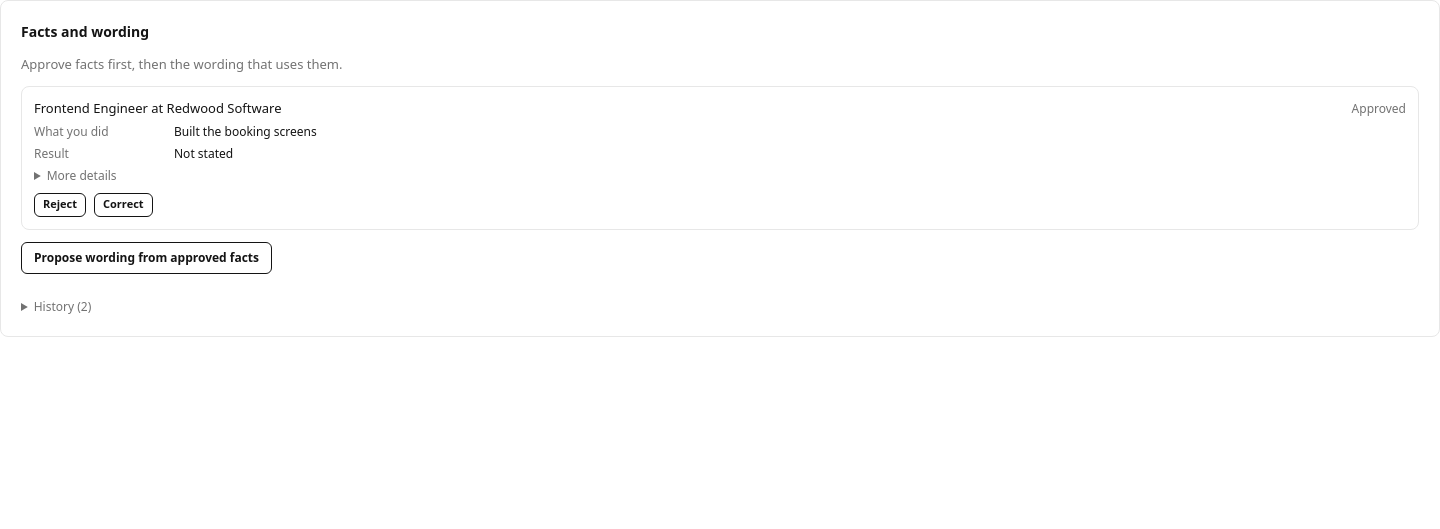
Test: EvidenceReview (#419, step 7) › restores a rejected wording as a draft and leaves replaced ones without a restore button
Click the heading "History (2)".
click(62, 306)  # box [34, 298, 91, 315]
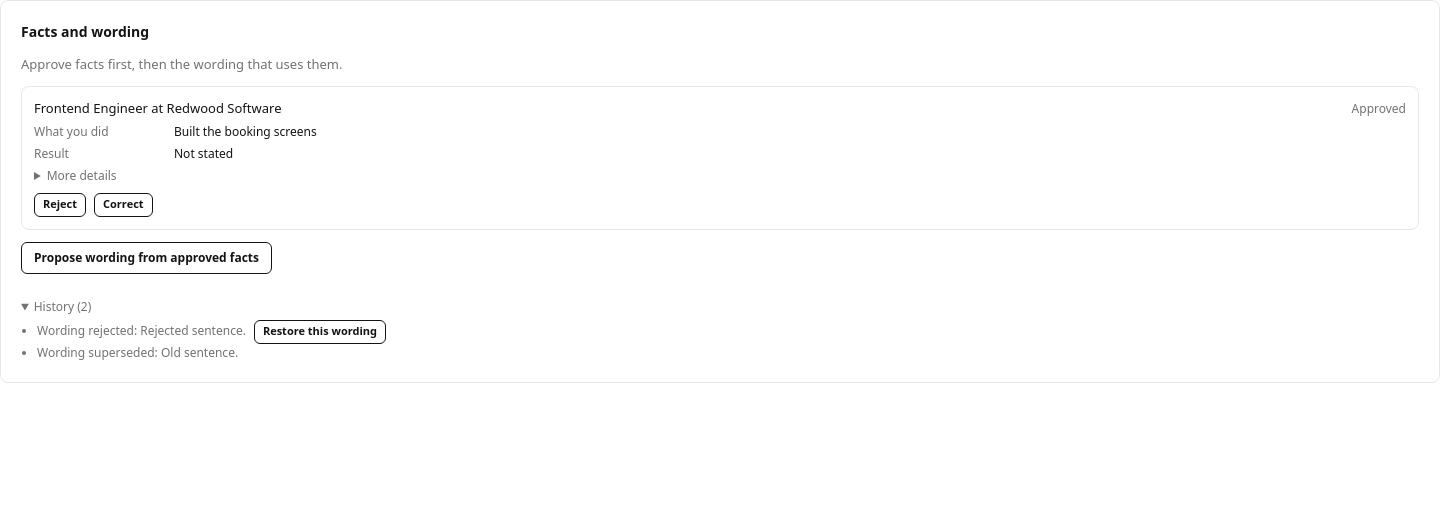
Now the number of buttons "Restore this wording" is 1
Click the button "Restore this wording".
click(320, 332)  # box [254, 320, 386, 344]
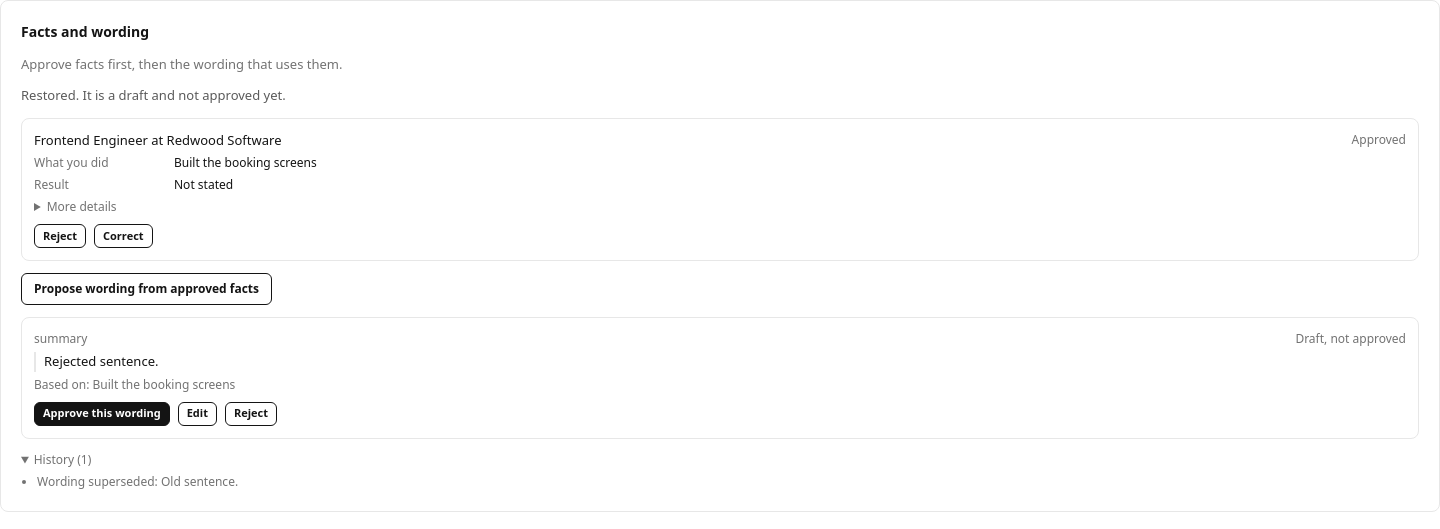
Now the text "Rejected sentence." is shown, box [34, 352, 1406, 372]
Now the text "Draft, not approved" is shown, box [1295, 330, 1406, 348]
